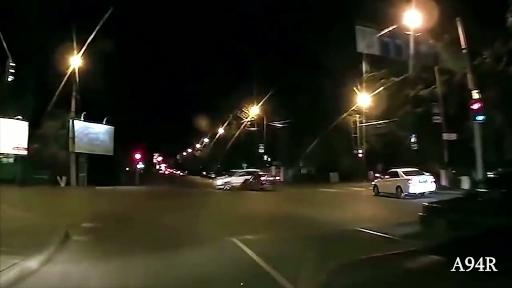Accident: (174, 146, 313, 206)
CAR: (369, 160, 439, 204)
